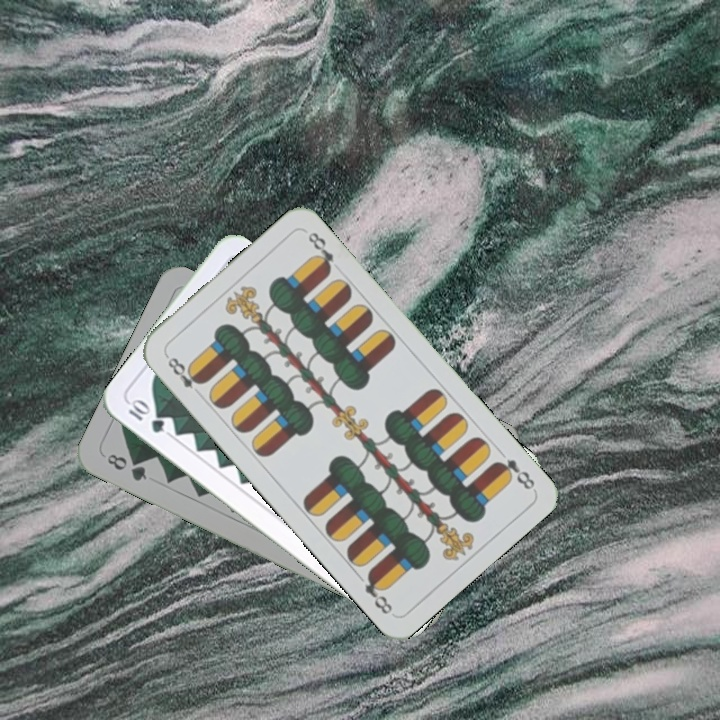E8: (161, 350, 207, 400), (490, 454, 538, 493)
G10: (124, 396, 167, 436)
G8: (103, 449, 150, 484)
